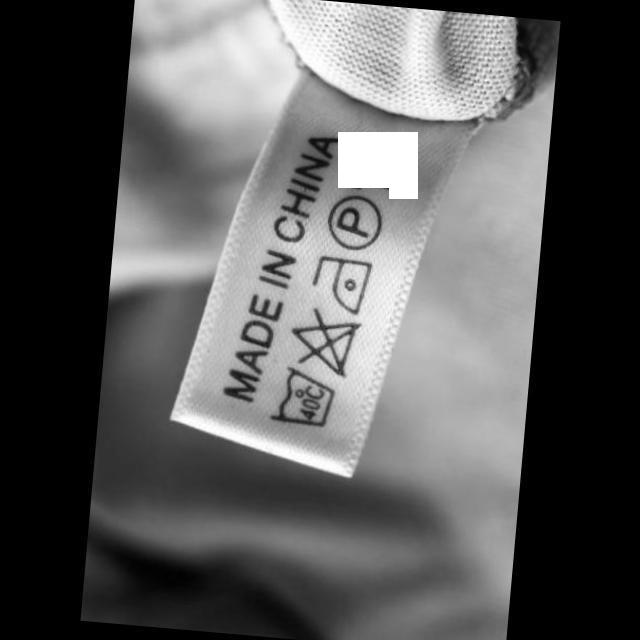40C: (266, 361, 341, 429)
DN_bleach: (284, 302, 366, 380)
iron_low: (306, 249, 376, 316)
normal_dry_clean_solvents: (324, 188, 388, 253)
